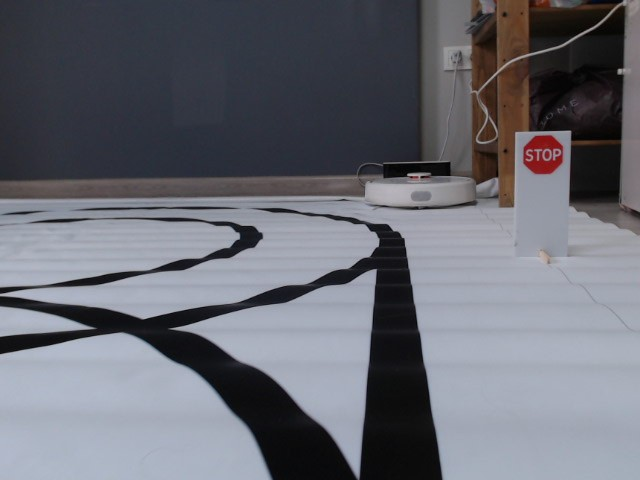Stop: (522, 134, 564, 176)
